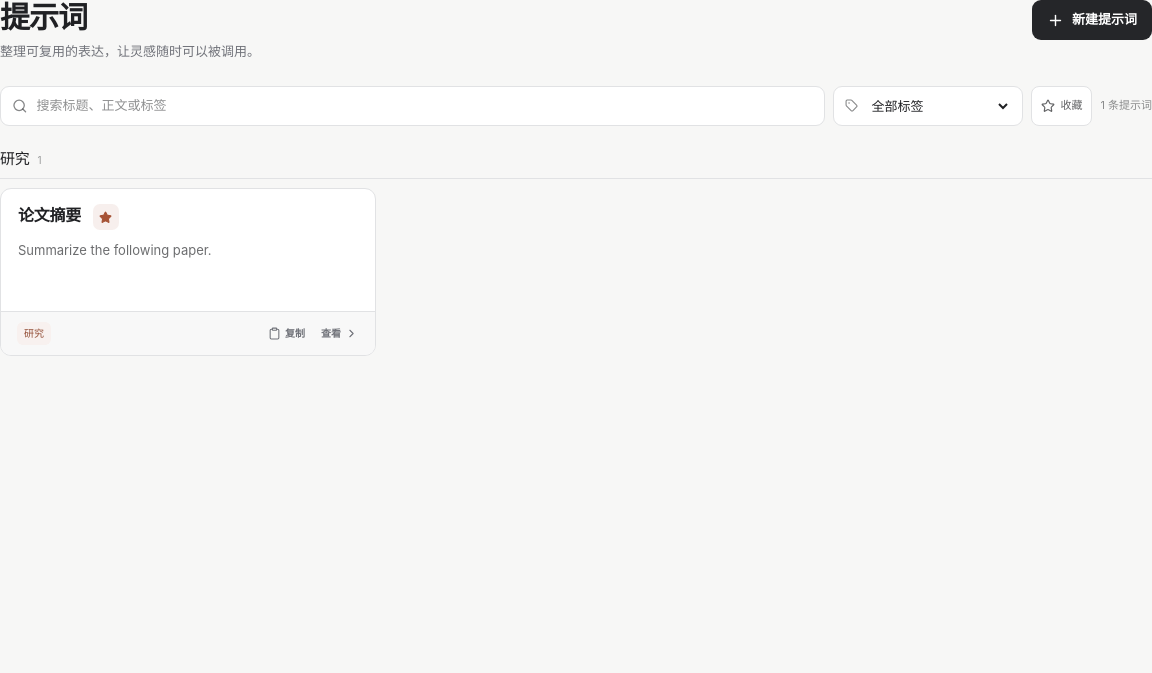
Test: PromptsPage › keeps the original prompt when AI format correction fails
Click the button with aria-label "查看 论文摘要": (188, 250) [1,189,375,311]
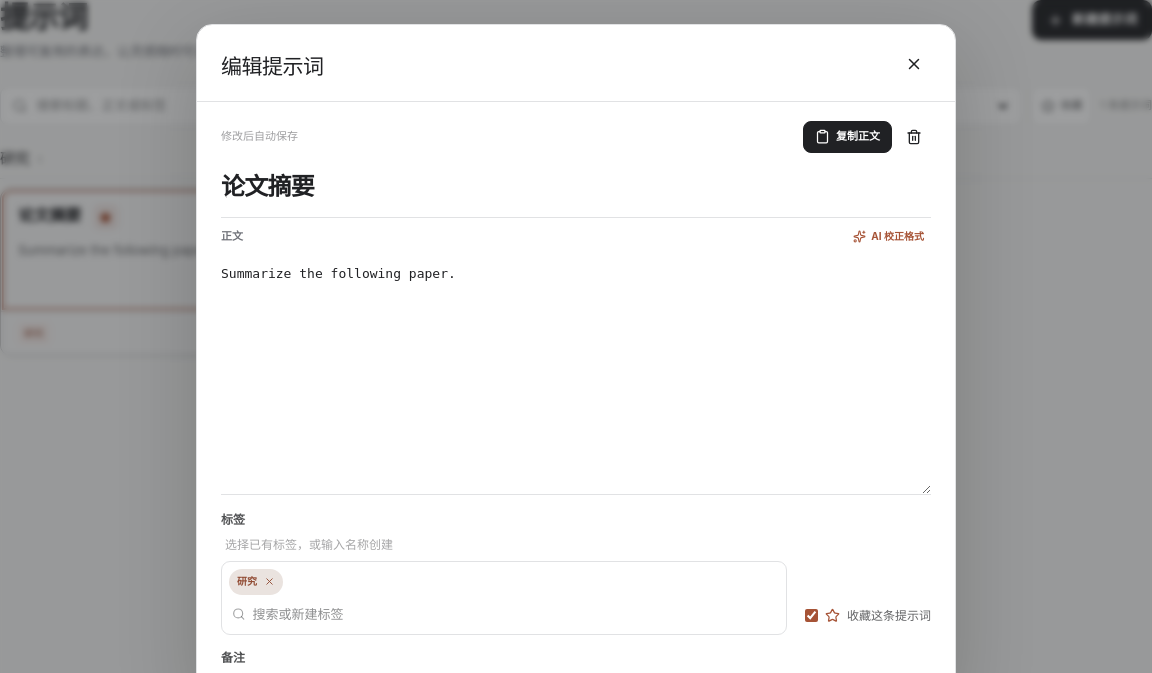
Click the button "AI 校正格式": (889, 236) [846,222,931,250]
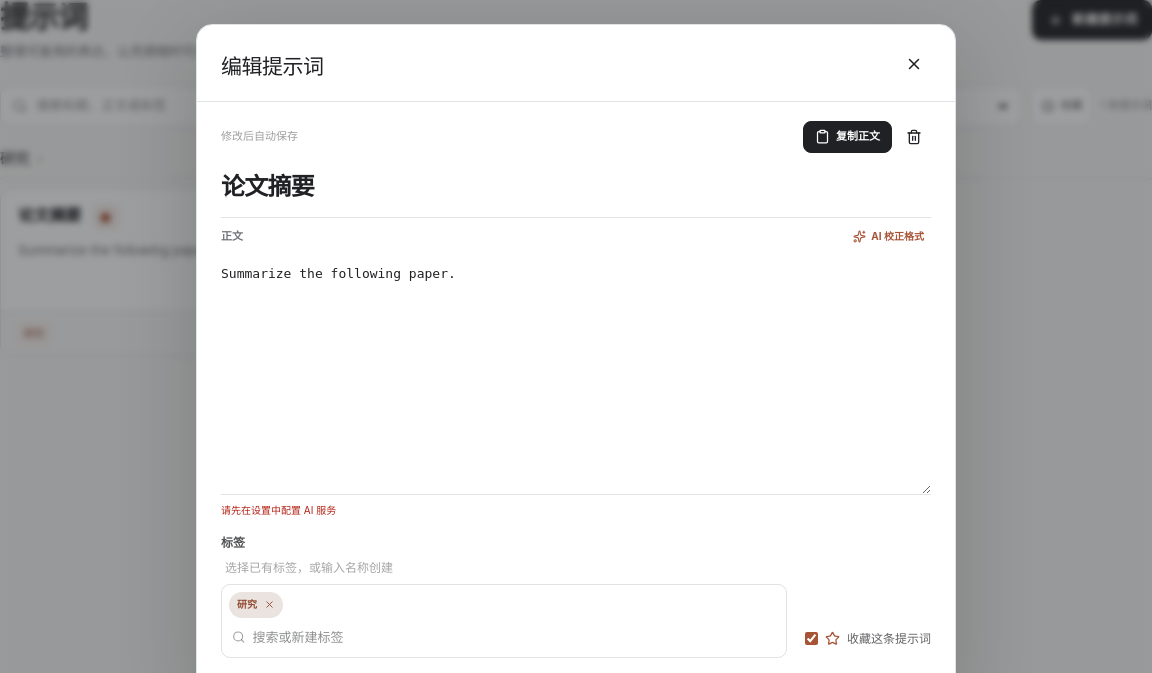
Result: the text box named "提示词正文" holds "Summarize the following paper." at [221,254,931,494]
Result: the text "请先在设置中配置 AI 服务" is shown at [221,504,336,516]
